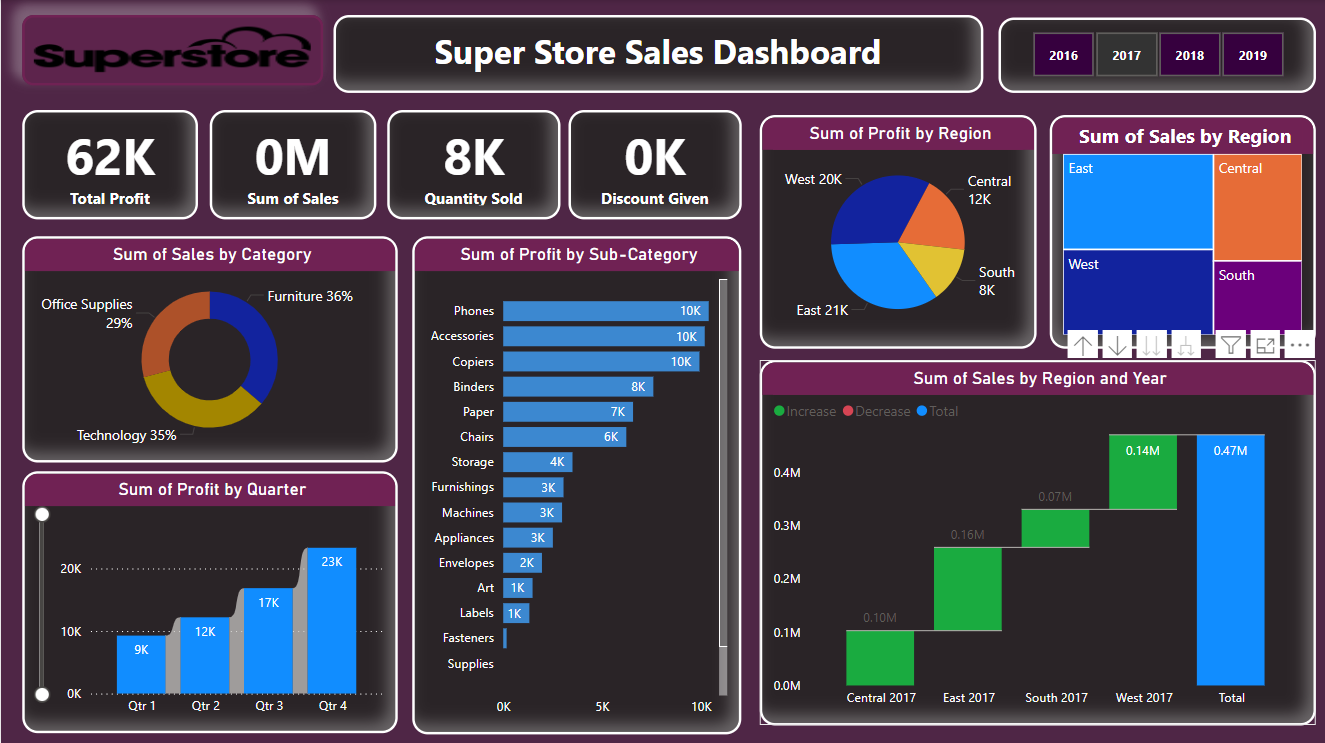

This screenshot's page, from the dashboard's own definition file:
{"tool":"powerbi","page":{"name":"SupertStore Dashboard","canvas":[1280,720],"ordinal":1},"visuals":[{"type":"textbox","box":[321,14.5,627.4,75.1],"z":0},{"type":"slicer","fields":{"Values":["Orders.Order Date.Variation.Date Hierarchy.Year"]},"box":[962.9,17,306.4,72.7],"z":1000},{"type":"treemap","title":"Sum of Sales by Region","fields":{"Values":["Sum(Orders.Sales)"],"Group":["Orders.Region"]},"box":[1012.7,111.5,256.7,225.6],"z":2000},{"type":"card","fields":{"Values":["Sum(Orders.Profit)"]},"box":[20.6,106.6,169.6,105.4],"z":3000},{"type":"card","fields":{"Values":["Sum(Orders.Quantity)"]},"box":[373.1,106.6,167.1,105.4],"z":4000},{"type":"card","fields":{"Values":["Sum(Orders.Sales)"]},"box":[201.1,106.6,161.1,105.4],"z":5000},{"type":"card","fields":{"Values":["Sum(Orders.Discount)"]},"box":[547.5,106.6,167.1,105.4],"z":6000},{"type":"barChart","fields":{"Y":["Sum(Orders.Profit)"],"Category":["Orders.Sub-Category"]},"box":[397.3,227.7,317.3,480.8],"z":7000},{"type":"pieChart","fields":{"Category":["Orders.Region"],"Y":["Sum(Orders.Profit)"]},"box":[732.6,111.5,267.1,225.6],"z":8000},{"type":"waterfallChart","fields":{"Category":["Orders.Region","Orders.Order Date.Variation.Date Hierarchy.Year"],"Y":["Sum(Orders.Sales)"]},"box":[732.8,347.6,536.6,352.5],"z":9000},{"type":"donutChart","fields":{"Y":["Sum(Orders.Sales)"],"Category":["Orders.Category"]},"box":[20.6,227.7,362.2,218],"z":10000},{"type":"columnChart","fields":{"Y":["Sum(Orders.Profit)"],"Category":["Orders.Order Date.Variation.Date Hierarchy.Quarter"]},"box":[20.6,455.4,362.2,253.1],"z":11000},{"type":"image","box":[20.6,14.5,290.7,67.8],"z":12000}]}

Visuals, with their boxes in screenshot pixels (x1, y1, x2, y2), scaled from the page's 1280x720 canvas onto the 1325x743 screenshot:
textbox: (left=332, top=15, right=982, bottom=92)
slicer - Orders.Order Date.Variation.Date Hierarchy.Year: (left=997, top=18, right=1314, bottom=93)
"Sum of Sales by Region" treemap: (left=1048, top=115, right=1314, bottom=348)
card - Sum(Orders.Profit): (left=21, top=110, right=197, bottom=219)
card - Sum(Orders.Quantity): (left=386, top=110, right=559, bottom=219)
card - Sum(Orders.Sales): (left=208, top=110, right=375, bottom=219)
card - Sum(Orders.Discount): (left=567, top=110, right=740, bottom=219)
barChart - Sum(Orders.Profit) x Orders.Sub-Category: (left=411, top=235, right=740, bottom=731)
pieChart - Orders.Region x Sum(Orders.Profit): (left=758, top=115, right=1035, bottom=348)
waterfallChart - Orders.Region x Orders.Order Date.Variation.Date Hierarchy.Year: (left=759, top=359, right=1314, bottom=722)
donutChart - Sum(Orders.Sales) x Orders.Category: (left=21, top=235, right=396, bottom=460)
columnChart - Sum(Orders.Profit) x Orders.Order Date.Variation.Date Hierarchy.Quarter: (left=21, top=470, right=396, bottom=731)
image: (left=21, top=15, right=322, bottom=85)
